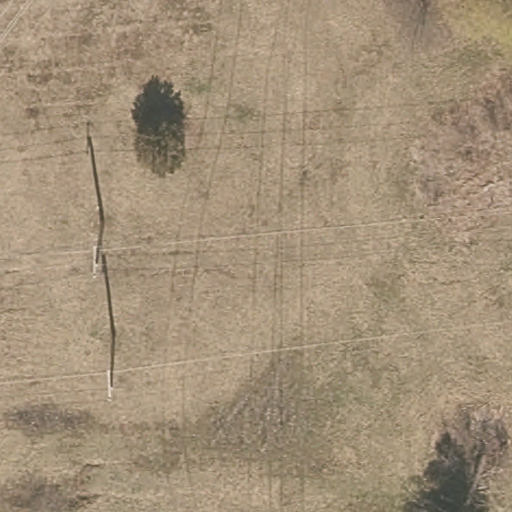DT: (90, 243, 101, 277), (104, 367, 114, 400)
